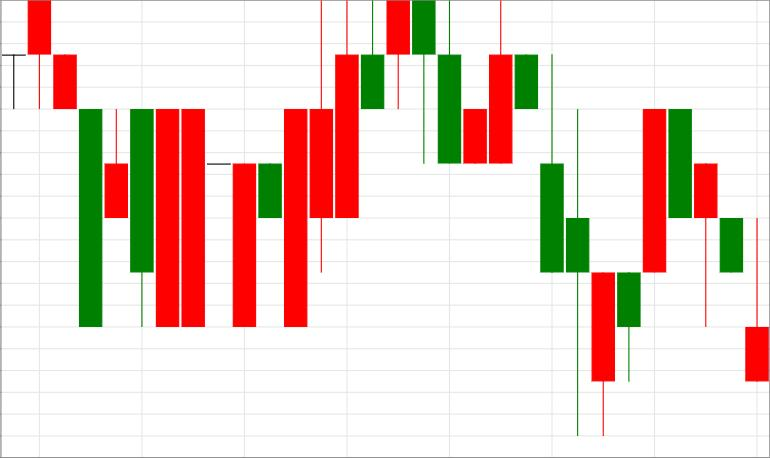hanging_man_fall: (285, 0, 436, 328)
inverse_hammer_rise: (668, 109, 769, 382)
